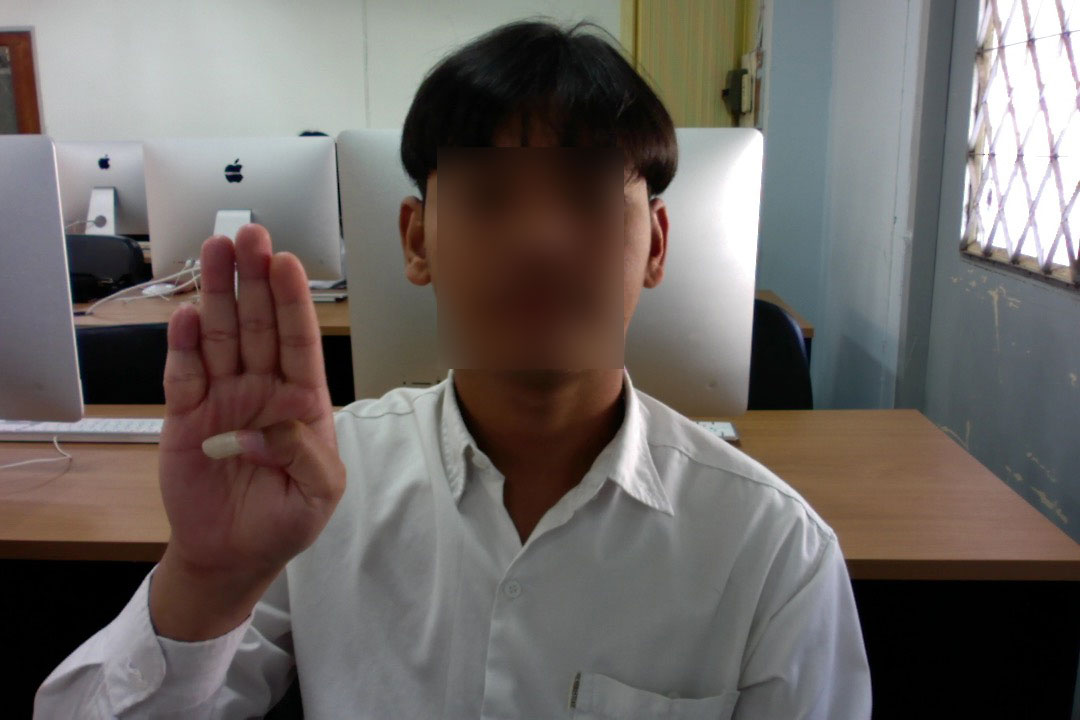bor: (151, 218, 353, 591)
